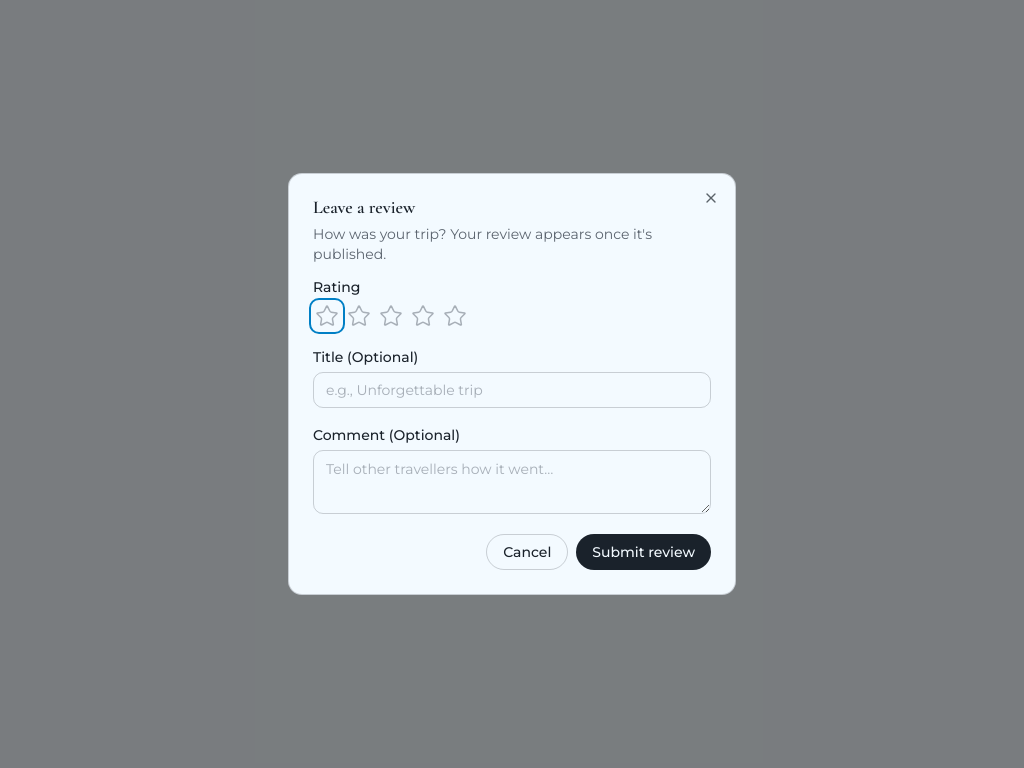
ReviewDialog (create) › requires a star rating before submitting
Click the button "Submit review".
click(644, 552)  # box [576,534,711,570]
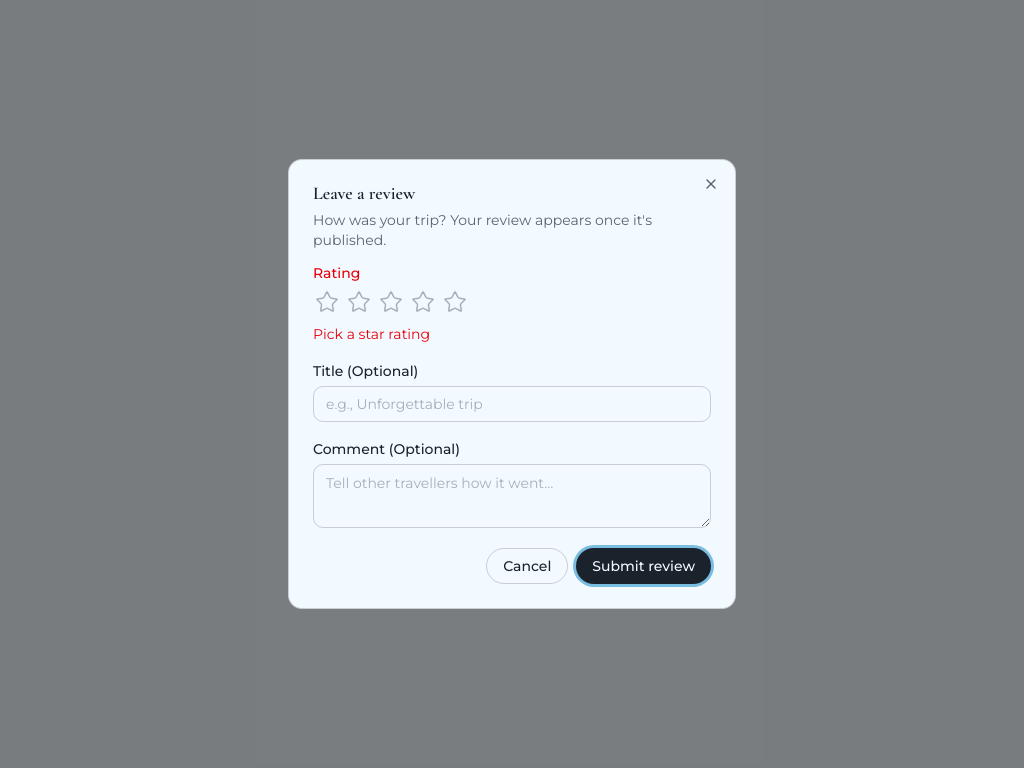
Now the text "Pick a star rating" is shown, box [313,325,430,343]
